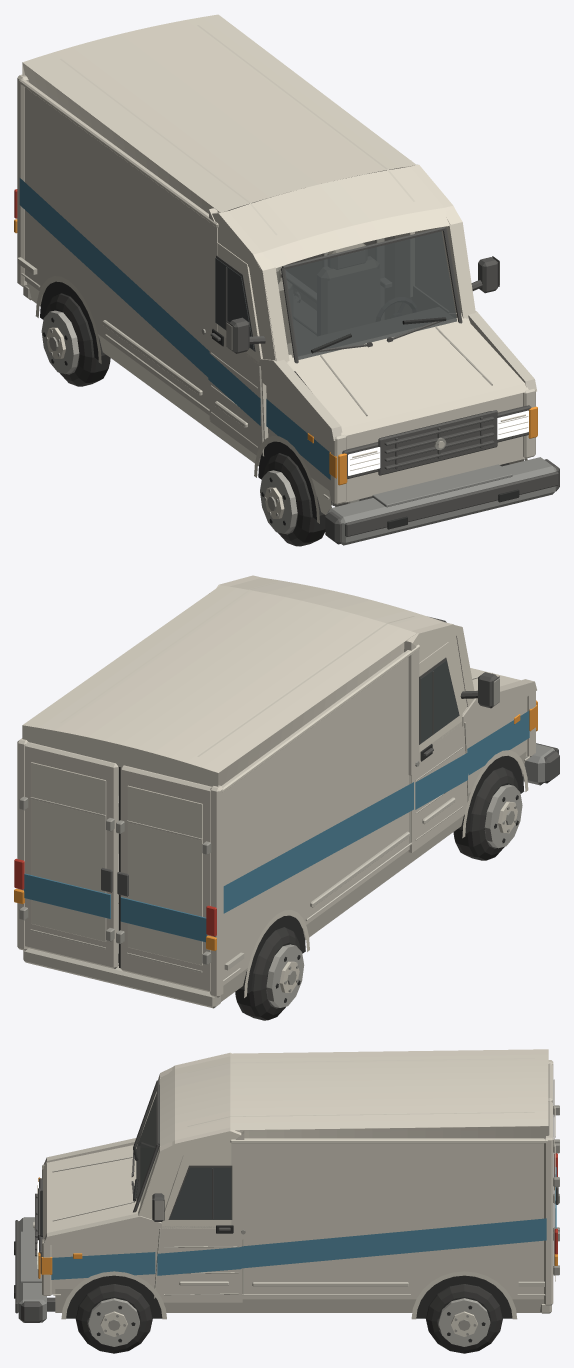
Rendered from Vehicle_ServiceVan_Complete.fbx.
3 renders of one model, top to bottom at view 1: azimuth 30°, elevation 25°; view 2: azimuth 150°, elevation 25°; view 3: azimuth 270°, elevation 25°, orthographic. The views are drawn at different scales.
Parts seen in each view (by area): view 1: Complete_V01 | Ana araç gövdesi, Complete_V04 | Ön cam, Complete_V09 | Ön tampon, Complete_V20 | Yan mavi boyalı şerit, Complete_V03 | Ön kapı paneli | Sağ, Complete_V18 | Ön koltuk | Sürücü, Complete_V10 | Ön ızgara ve amblem bölümü, Complete_V22 | Yük bölmesi iç mekânı, Complete_V14 | Araç lastiği | Arka Sağ, Complete_V14 | Araç lastiği | Ön Sağ, Complete_V03 | Ön kapı paneli | Sol, Complete_V16 | Ön gösterge paneli (+9 smaller); view 2: Complete_V01 | Ana araç gövdesi, Complete_V21 | Arka çift yük kapısı | Sol, Complete_V21 | Arka çift yük kapısı | Sağ, Complete_V20 | Yan mavi boyalı şerit, Complete_V03 | Ön kapı paneli | Sağ, Complete_V14 | Araç lastiği | Arka Sağ, Complete_V14 | Araç lastiği | Ön Sağ, Complete_V05 | Yan kapı camı | Sağ, Complete_V15 | Jant ve göbek | Arka Sağ, Complete_V15 | Jant ve göbek | Ön Sağ, Complete_V09 | Ön tampon, Complete_V08 | Yan koruma çıtası | Sağ (+2 smaller); view 3: Complete_V01 | Ana araç gövdesi, Complete_V20 | Yan mavi boyalı şerit, Complete_V03 | Ön kapı paneli | Sol, Complete_V05 | Yan kapı camı | Sol, Complete_V09 | Ön tampon, Complete_V14 | Araç lastiği | Arka Sol, Complete_V14 | Araç lastiği | Ön Sol, Complete_V15 | Jant ve göbek | Arka Sol, Complete_V15 | Jant ve göbek | Ön Sol, Complete_V04 | Ön cam, Complete_V08 | Yan koruma çıtası | Sol, Complete_V19 | Tavan çizgi detayları (+4 smaller).
Part boxes in pixels (box(x1,y1,x2,y2)): Complete_V01 | Ana araç gövdesi: box(17, 14, 536, 523); Complete_V04 | Ön cam: box(281, 226, 462, 363); Complete_V09 | Ön tampon: box(325, 457, 559, 545); Complete_V20 | Yan mavi boyalı şerit: box(19, 178, 330, 479); Complete_V03 | Ön kapı paneli | Sağ: box(208, 242, 268, 458); Complete_V18 | Ön koltuk | Sürücü: box(317, 243, 379, 335); Complete_V10 | Ön ızgara ve amblem bölümü: box(378, 410, 497, 475); Complete_V22 | Yük bölmesi iç mekânı: box(228, 170, 394, 340); Complete_V14 | Araç lastiği | Arka Sağ: box(45, 293, 110, 386); Complete_V14 | Araç lastiği | Ön Sağ: box(263, 453, 325, 546); Complete_V03 | Ön kapı paneli | Sol: box(409, 228, 448, 313); Complete_V16 | Ön gösterge paneli: box(287, 307, 452, 385); Complete_V01 | Ana araç gövdesi: box(17, 575, 536, 1008); Complete_V21 | Arka çift yük kapısı | Sol: box(14, 742, 128, 968); Complete_V21 | Arka çift yük kapısı | Sağ: box(101, 765, 216, 992); Complete_V20 | Yan mavi boyalı şerit: box(223, 711, 529, 913); Complete_V03 | Ön kapı paneli | Sağ: box(408, 642, 469, 852); Complete_V14 | Araç lastiği | Arka Sağ: box(235, 927, 300, 1020); Complete_V14 | Araç lastiği | Ön Sağ: box(453, 767, 518, 860); Complete_V05 | Yan kapı camı | Sağ: box(420, 660, 459, 743); Complete_V15 | Jant ve göbek | Arka Sağ: box(266, 944, 304, 1007); Complete_V15 | Jant ve göbek | Ön Sağ: box(484, 784, 522, 848); Complete_V09 | Ön tampon: box(522, 743, 559, 785); Complete_V08 | Yan koruma çıtası | Sağ: box(224, 797, 455, 970); Complete_V01 | Ana araç gövdesi: box(42, 1049, 553, 1319); Complete_V20 | Yan mavi boyalı şerit: box(51, 1218, 546, 1279); Complete_V03 | Ön kapı paneli | Sol: box(154, 1155, 242, 1302); Complete_V05 | Yan kapı camı | Sol: box(169, 1167, 231, 1219); Complete_V09 | Ön tampon: box(14, 1217, 55, 1322); Complete_V14 | Araç lastiği | Arka Sol: box(426, 1284, 502, 1353); Complete_V14 | Araç lastiği | Ön Sol: box(75, 1284, 152, 1353); Complete_V15 | Jant ve göbek | Arka Sol: box(438, 1298, 490, 1346); Complete_V15 | Jant ve göbek | Ön Sol: box(88, 1298, 139, 1346); Complete_V04 | Ön cam: box(133, 1080, 159, 1212); Complete_V08 | Yan koruma çıtası | Sol: box(179, 1281, 544, 1286); Complete_V19 | Tavan çizgi detayları: box(187, 1058, 534, 1126).
Size of the model in its own units: 2.65 by 2.71 by 5.83.
